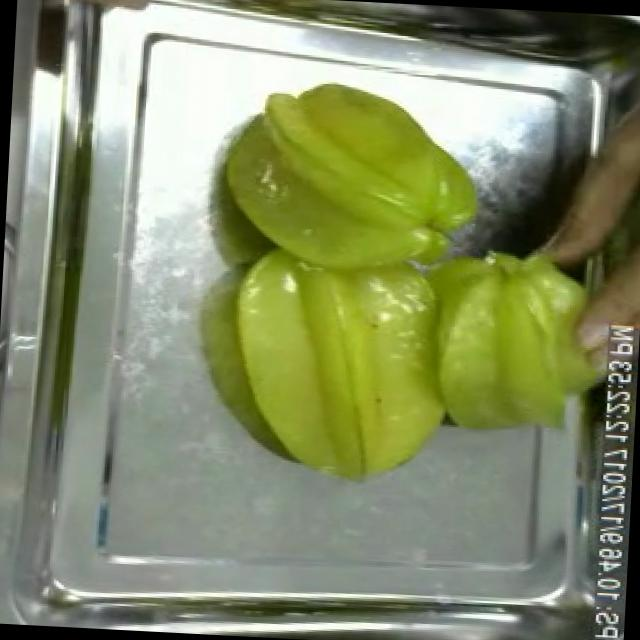fruit: (200, 57, 500, 504), (418, 228, 625, 452)
